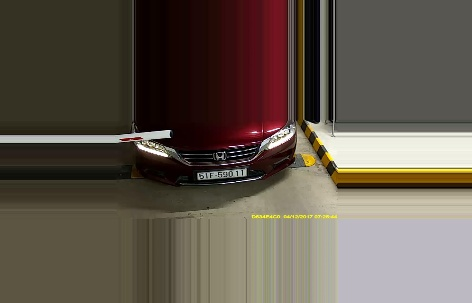plate: (196, 166, 247, 180)
